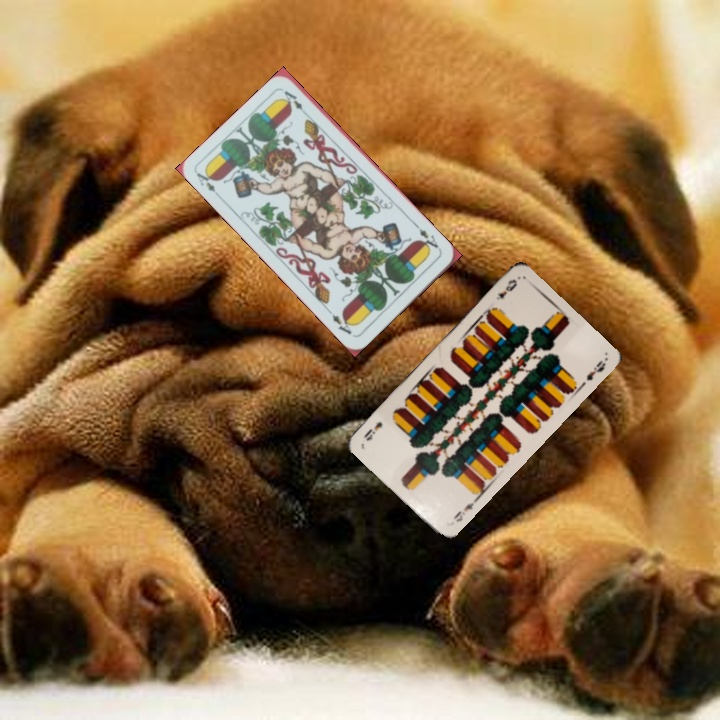E9: (449, 495, 480, 525), (492, 275, 520, 302)
EA: (192, 166, 224, 202), (412, 221, 444, 254)
